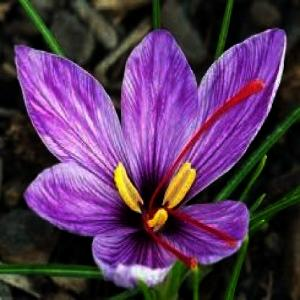Saffron: (12, 34, 286, 288)
